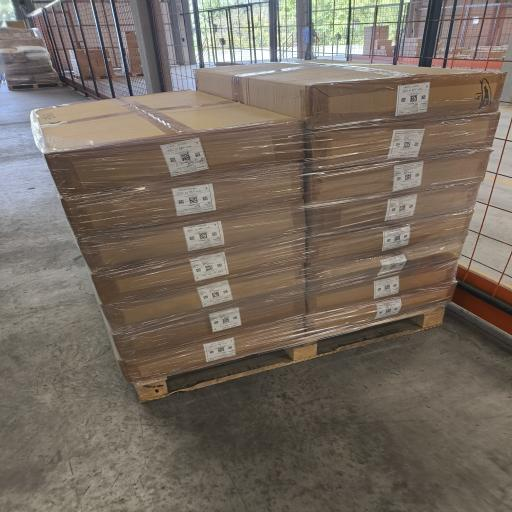pallet: (135, 308, 444, 402), (8, 82, 63, 90), (129, 72, 143, 77)
